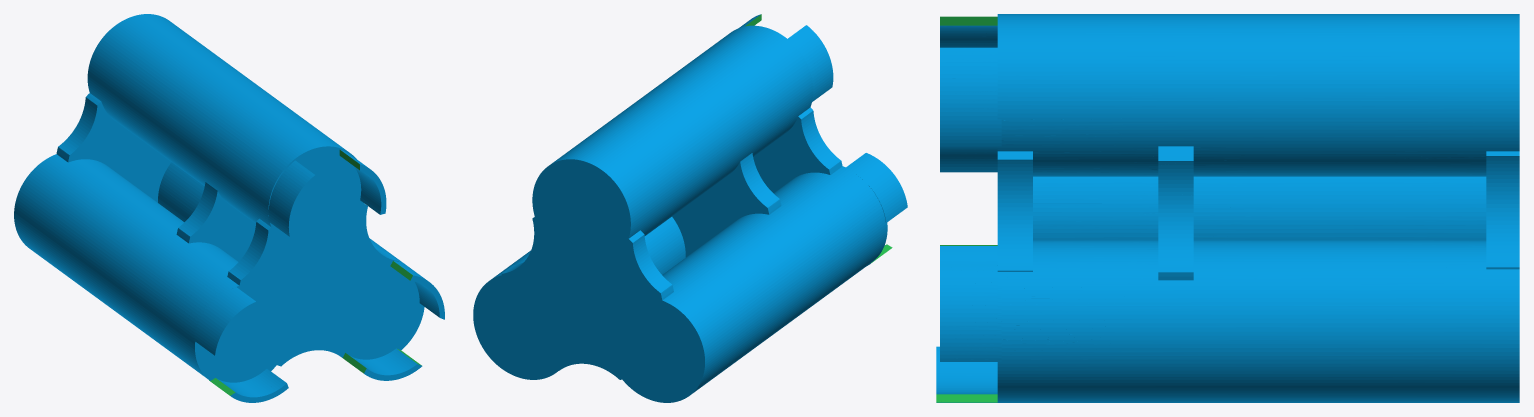
The model's file is torre.obj.
3 views of the same model, side by side, from view 1: azimuth 30°, elevation 25°; view 2: azimuth 150°, elevation 25°; view 3: azimuth 270°, elevation 25° (orthographic). The views are drawn at different scales.
Parts seen in each view (by area): view 1: Object.1, Object.2; view 2: Object.1; view 3: Object.1, Object.2.
Boxes of the visible parts, left/top/right/bottom form: Object.1: left=14, top=14, right=444, bottom=402; Object.2: left=343, top=348, right=422, bottom=380; Object.1: left=473, top=14, right=907, bottom=402; Object.1: left=940, top=14, right=1519, bottom=402; Object.2: left=936, top=346, right=997, bottom=402.
Bounding box in the file's own units: 94.19 × 90.19 × 143.
